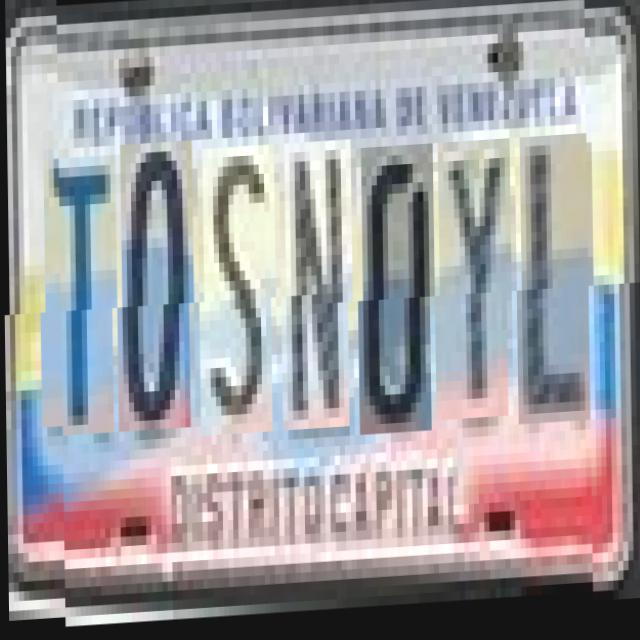0: (360, 150, 435, 440)
L: (519, 141, 594, 431)
N: (284, 144, 354, 434)
O: (120, 143, 194, 433)
S: (202, 148, 276, 438)
T: (43, 156, 118, 438)
Y: (437, 146, 512, 427)
